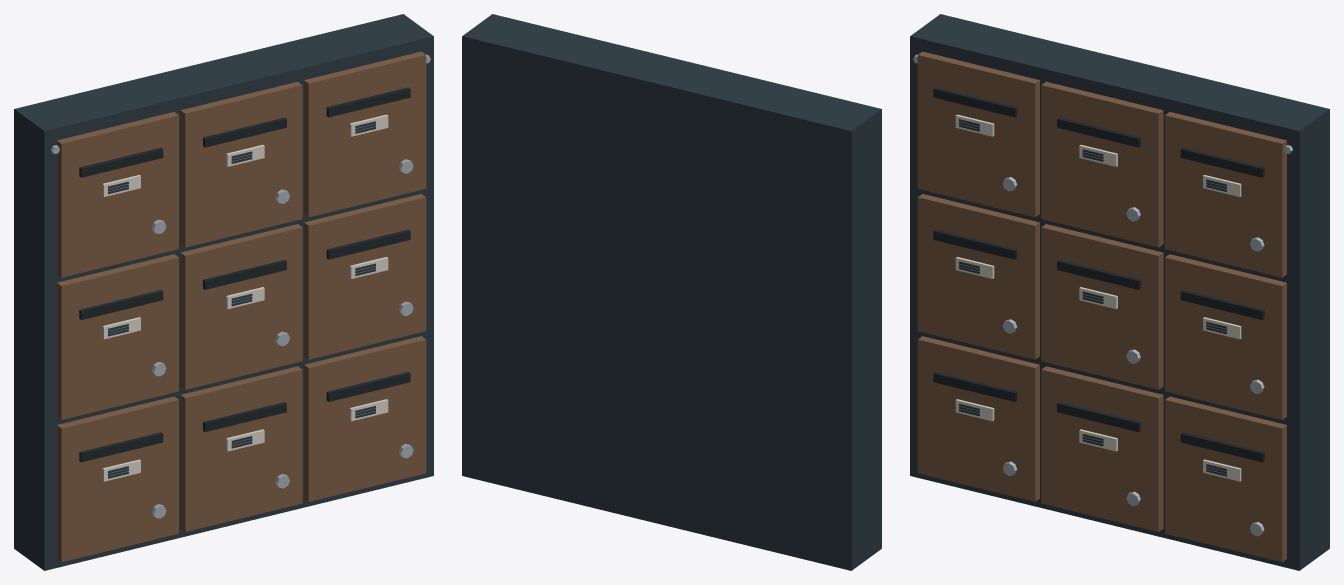
Rendered from b14_recessed_apartment_mail_wall.glb.
3 views of the same model, side by side, from view 1: azimuth 30°, elevation 25°; view 2: azimuth 150°, elevation 25°; view 3: azimuth 330°, elevation 25° (orthographic).
Visible parts, largest first — view 1: b14_recessed_apartment_mail_wall; view 2: b14_recessed_apartment_mail_wall; view 3: b14_recessed_apartment_mail_wall.
Part boxes in pixels (box(x1,y1,x2,y2)): b14_recessed_apartment_mail_wall: box(14, 14, 433, 570); b14_recessed_apartment_mail_wall: box(462, 14, 881, 570); b14_recessed_apartment_mail_wall: box(910, 14, 1329, 570).
Bounding box in the file's own units: 1.26 × 1.36 × 0.218.
